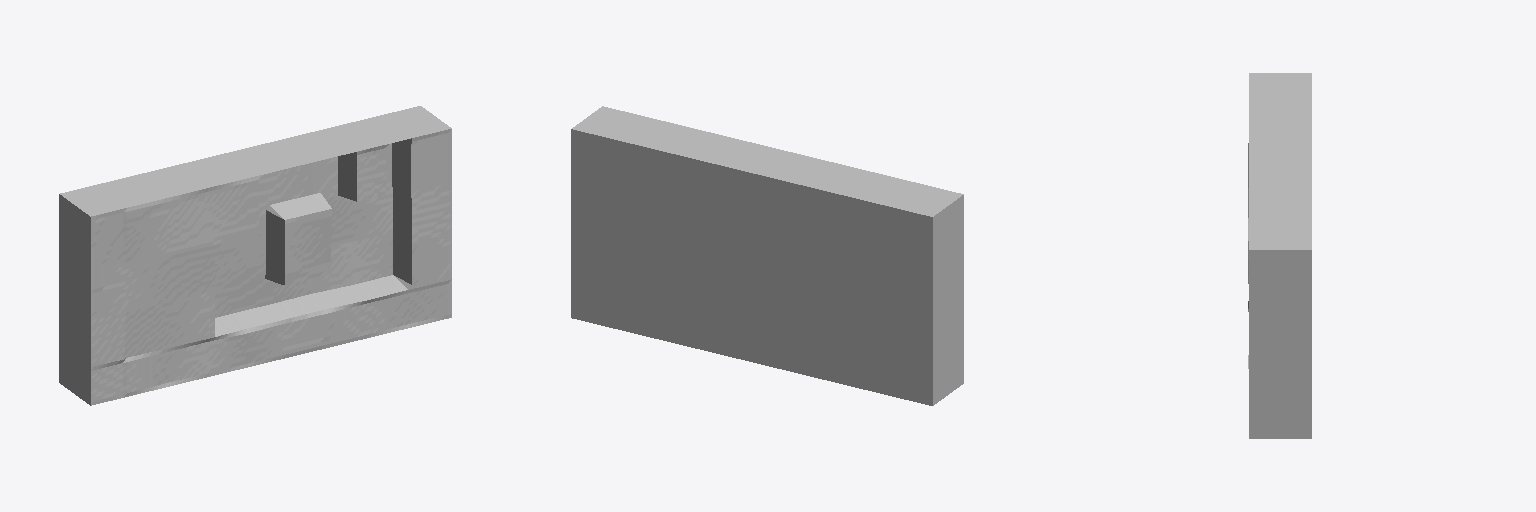
The model's file is rectangular_prism_bumps_8_8.obj.
3 views of the same model, side by side, from view 1: azimuth 30°, elevation 25°; view 2: azimuth 150°, elevation 25°; view 3: azimuth 270°, elevation 25° (orthographic).
Bounding box in the file's own units: 10 × 5 × 1.53.